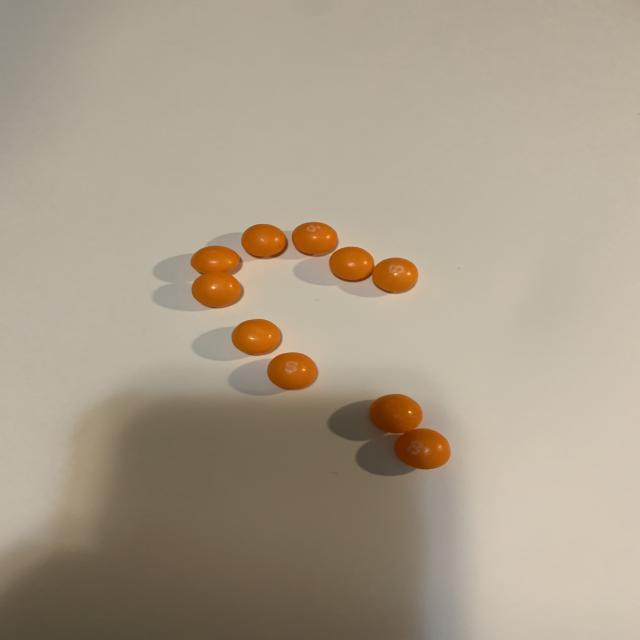smartie: (395, 429, 451, 470), (369, 394, 423, 434), (267, 353, 317, 390), (231, 319, 280, 355), (191, 272, 240, 308), (372, 257, 418, 292), (292, 222, 338, 254), (330, 247, 374, 280), (241, 224, 286, 256), (190, 245, 240, 273)
